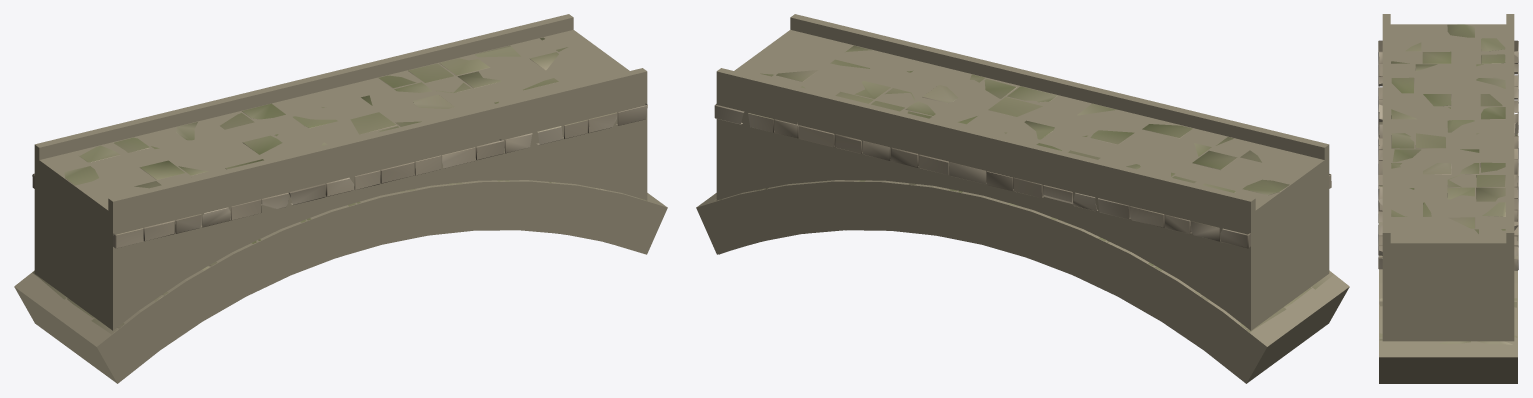
The model's file is bridge_crown.glb.
The picture shows the model from 3 angles, left to right: view 1: azimuth 30°, elevation 25°; view 2: azimuth 150°, elevation 25°; view 3: azimuth 270°, elevation 25°; orthographic projection. The views are drawn at different scales.
Parts seen in each view (by area): view 1: bridge_crown_far, bridge_crown; view 2: bridge_crown_far, bridge_crown; view 3: bridge_crown_far, bridge_crown.
Boxes of the visible parts, left/top/right/bottom form: bridge_crown_far: left=14, top=14, right=667, bottom=383; bridge_crown: left=32, top=37, right=647, bottom=334; bridge_crown_far: left=696, top=14, right=1349, bottom=383; bridge_crown: left=714, top=45, right=1333, bottom=332; bridge_crown_far: left=1379, top=14, right=1517, bottom=383; bridge_crown: left=1378, top=24, right=1518, bottom=344.
Bounding box in the file's own units: 63.06 × 19.12 × 15.99.
